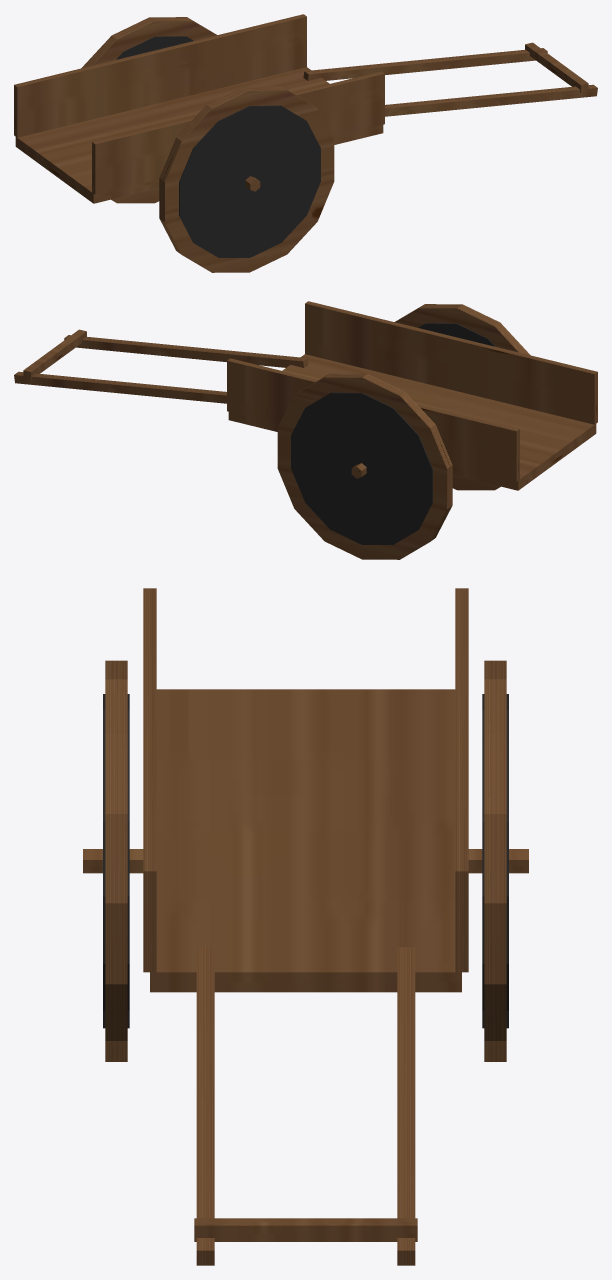
The model's file is arba_cart.glb.
3 renders of one model, top to bottom at view 1: azimuth 30°, elevation 25°; view 2: azimuth 150°, elevation 25°; view 3: azimuth 270°, elevation 25°, orthographic. The views are drawn at different scales.
Visible parts, largest first — view 1: Arba_Cart; view 2: Arba_Cart; view 3: Arba_Cart.
Part boxes in pixels (x1,y1,x2,y2): Arba_Cart: [14, 14, 597, 272]; Arba_Cart: [14, 301, 597, 559]; Arba_Cart: [83, 588, 528, 1265].
Bounding box in the file's own units: 5.34 × 1.8 × 2.
2 materials, 1 textured.
